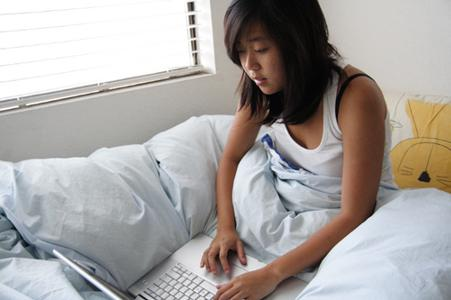person: (200, 1, 387, 300)
